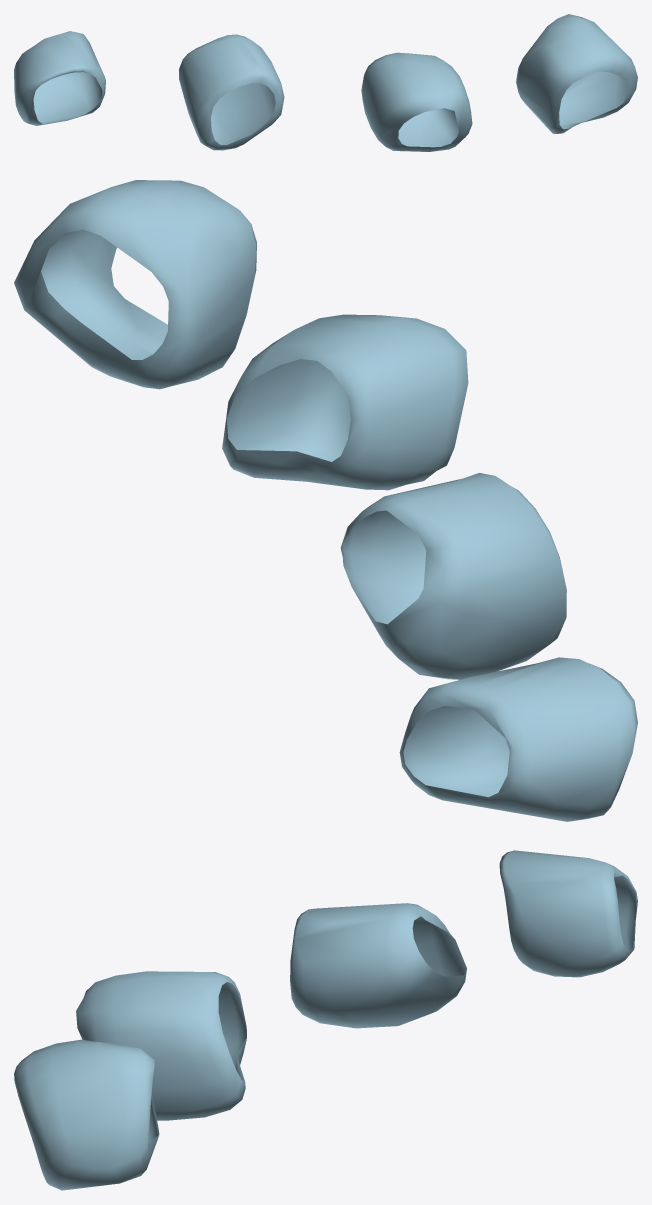
The model's file is articulacoes-articular-capsules-of-proximal-interphalangeal-joints-of-foot-r.glb.
3 renders of one model, top to bottom at view 1: azimuth 30°, elevation 25°; view 2: azimuth 150°, elevation 25°; view 3: azimuth 270°, elevation 25°, orthographic. The views are drawn at different scales.
Visible parts, largest first — view 1: Articular capsules of proximal interphalangeal joints of foo; view 2: Articular capsules of proximal interphalangeal joints of foo; view 3: Articular capsules of proximal interphalangeal joints of foo.
Boxes of the visible parts, box(x1,y1,x2,y2) form: Articular capsules of proximal interphalangeal joints of foo: box(14, 14, 637, 151); Articular capsules of proximal interphalangeal joints of foo: box(14, 180, 637, 821); Articular capsules of proximal interphalangeal joints of foo: box(14, 850, 637, 1190).
Bounding box in the file's own units: 0.0517 × 0.0126 × 0.0408.
